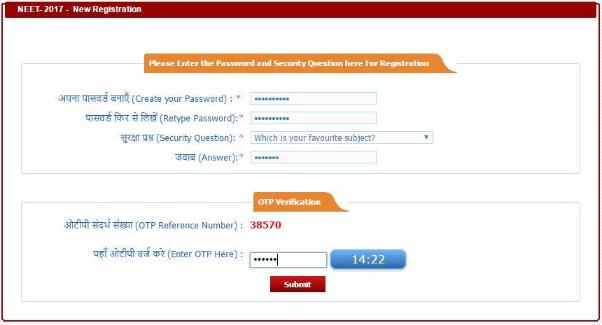button: (266, 275, 331, 297)
textbox: (248, 251, 329, 269)
